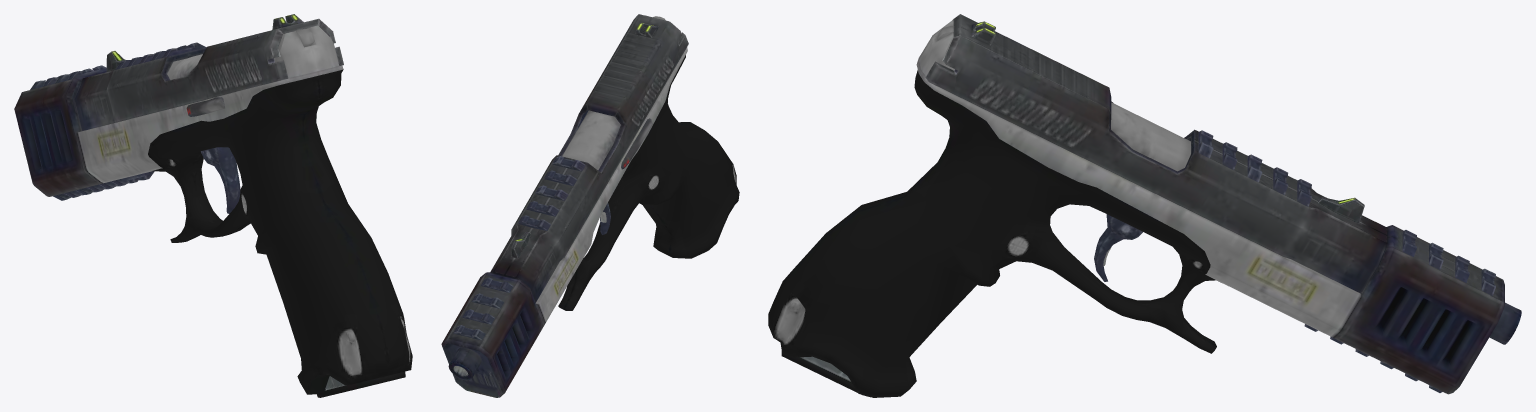
The model's file is pistol.glb.
3 renders of one model, left to right at view 1: azimuth 30°, elevation 25°; view 2: azimuth 150°, elevation 25°; view 3: azimuth 270°, elevation 25°, orthographic. The views are drawn at different scales.
Parts seen in each view (by area): view 1: Frame_low_GunGs_0, Slide_low_GunGs_0, Trigger_low_GunGs_0, Slide Stop_low_GunGs_0, Ejector_low_GunGs_0; view 2: Frame_low_GunGs_0, Slide_low_GunGs_0, Ejector_low_GunGs_0, Slide Stop_low_GunGs_0; view 3: Frame_low_GunGs_0, Slide_low_GunGs_0, Ejector_low_GunGs_0, Trigger_low_GunGs_0.
Boxes of the visible parts, left/top/right/bottom form: Frame_low_GunGs_0: left=14, top=25, right=412, bottom=397; Slide_low_GunGs_0: left=74, top=14, right=343, bottom=130; Trigger_low_GunGs_0: left=201, top=147, right=240, bottom=213; Slide Stop_low_GunGs_0: left=186, top=97, right=224, bottom=116; Ejector_low_GunGs_0: left=167, top=54, right=202, bottom=79; Frame_low_GunGs_0: left=441, top=15, right=739, bottom=397; Slide_low_GunGs_0: left=490, top=14, right=688, bottom=302; Ejector_low_GunGs_0: left=562, top=110, right=620, bottom=169; Slide Stop_low_GunGs_0: left=621, top=118, right=652, bottom=169; Frame_low_GunGs_0: left=768, top=20, right=1521, bottom=397; Slide_low_GunGs_0: left=925, top=14, right=1387, bottom=293; Ejector_low_GunGs_0: left=1111, top=102, right=1190, bottom=171; Trigger_low_GunGs_0: left=1094, top=214, right=1142, bottom=281.
Size of the model in its own units: 31.21 by 120 by 227.
1 material, 1 textured.
